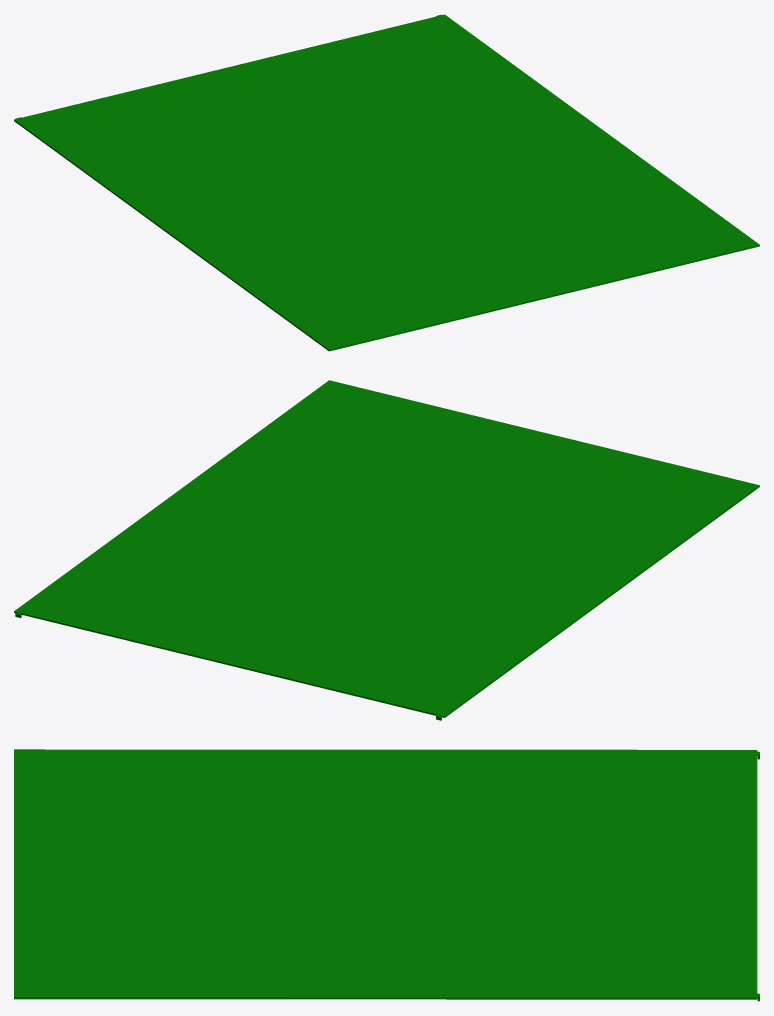
Rendered from psycheSolarPanel1-3_a.obj.
3 renders of one model, top to bottom at view 1: azimuth 30°, elevation 25°; view 2: azimuth 150°, elevation 25°; view 3: azimuth 270°, elevation 25°, orthographic. The views are drawn at different scales.
Size of the model in its own units: 309 by 3.31 by 393.
